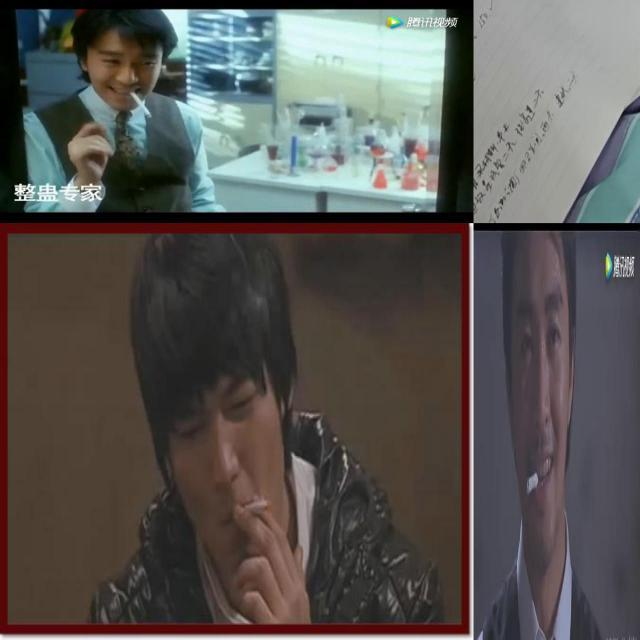smoke: (524, 454, 540, 506), (128, 91, 154, 121), (241, 498, 269, 515)
